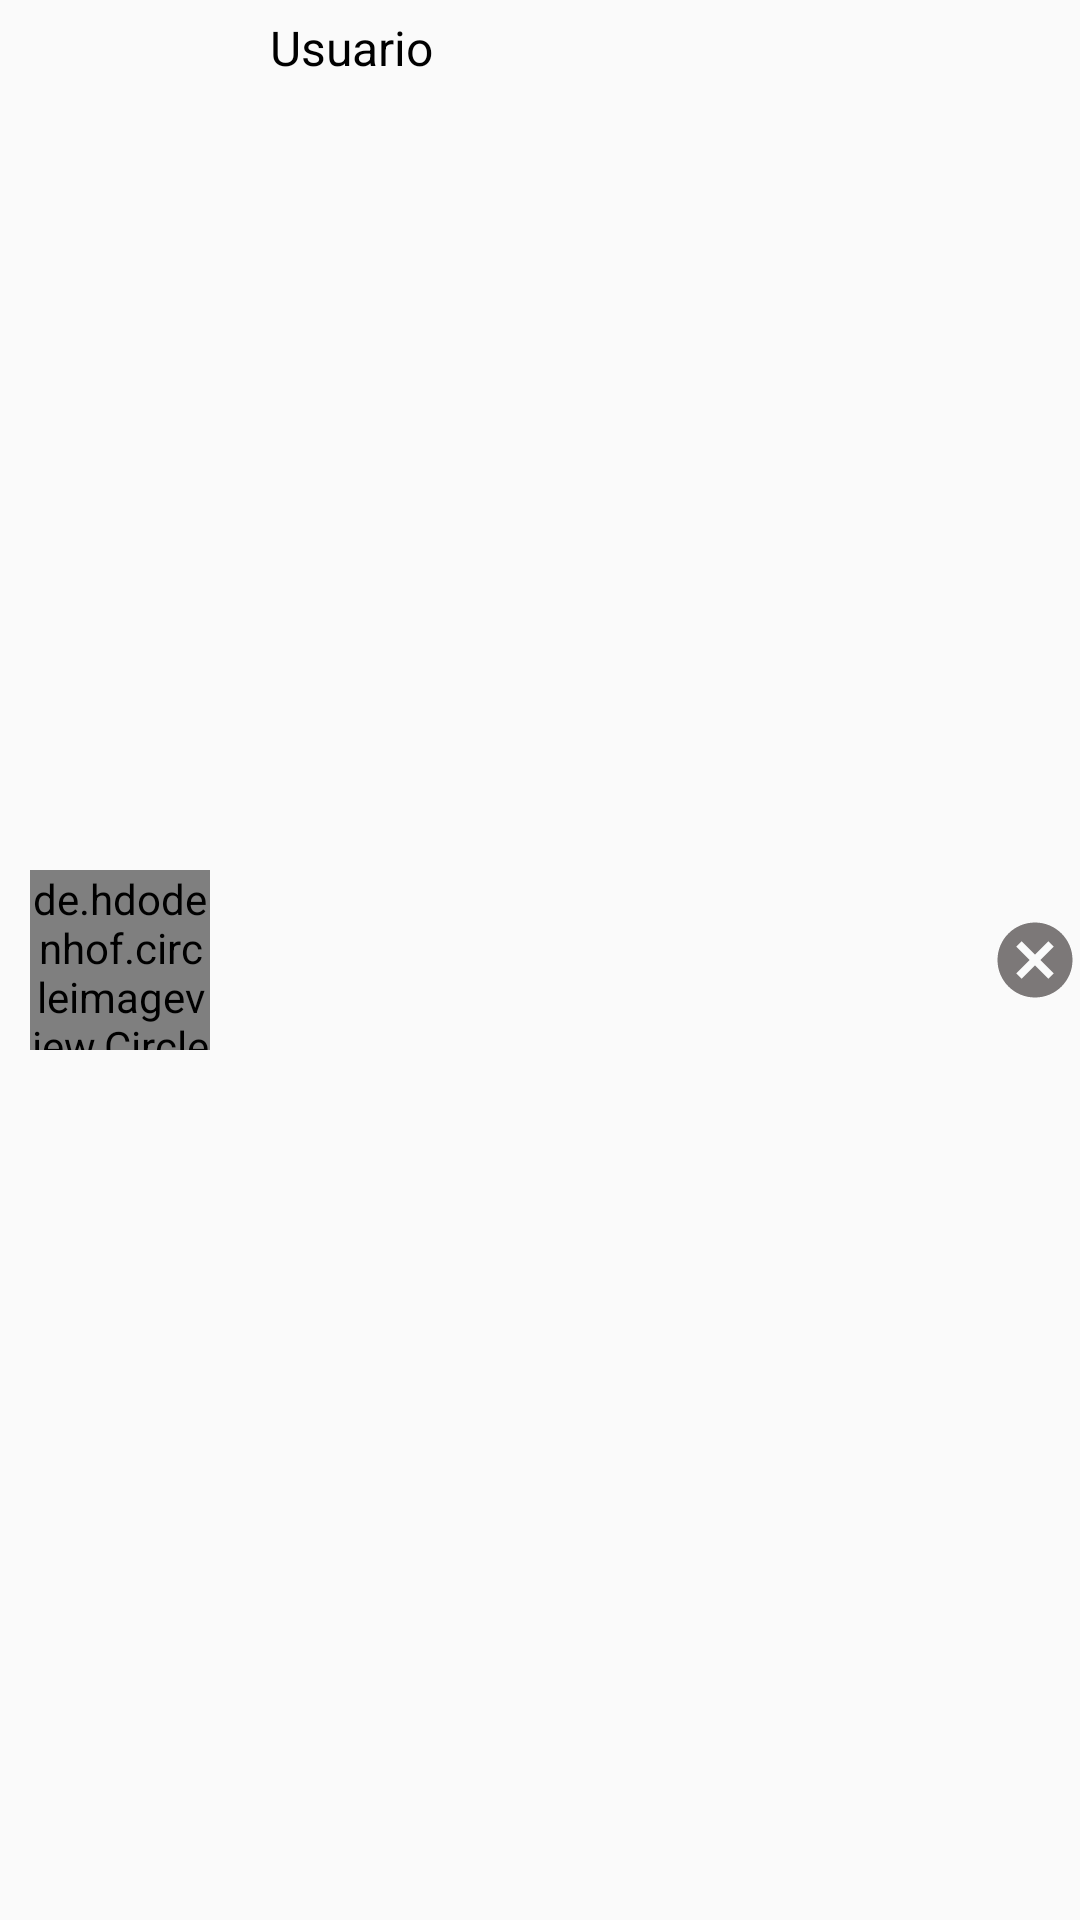

Icons on this 1080px x 1920px Android screen, each with its box as (x1, y1, x2, y2):
cancel: (997, 922, 1073, 998)
